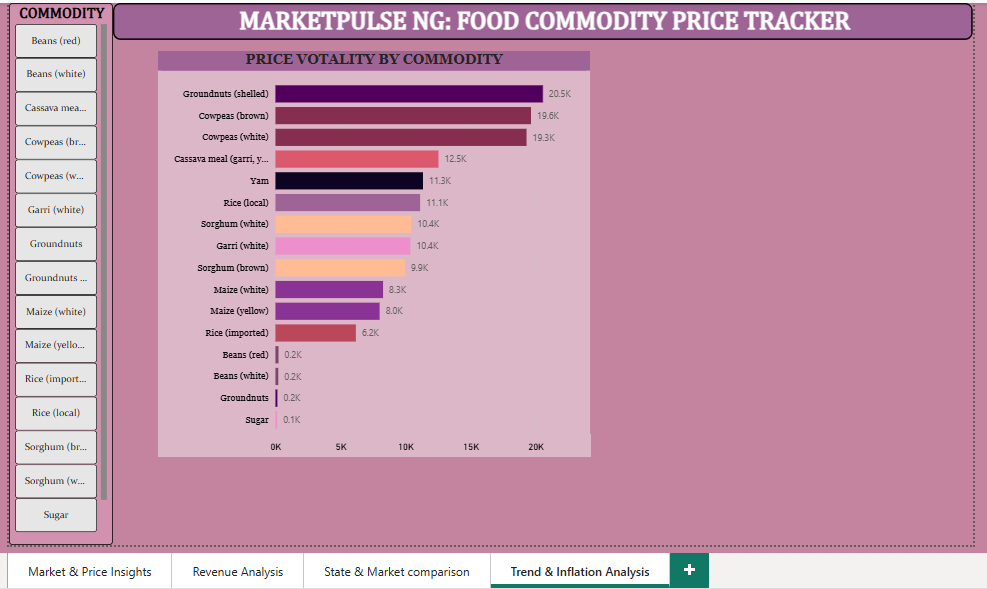

The dashboard page shown, as its layout file describes it:
{"tool":"powerbi","page":{"name":"Trend Analysis","canvas":[1280,720],"ordinal":3},"visuals":[{"type":"barChart","title":"PRICE VOTALITY BY COMMODITY","fields":{"Category":["Price.Commodity"],"Y":["Price.Price Volatility"]},"box":[197.9,63.8,573.9,539.3],"z":0},{"type":"advancedSlicerVisual","title":"COMMODITY","fields":{"Values":["Commodity.Commodity"]},"box":[0,0,138.2,720],"z":1000},{"type":"textbox","title":"MARKETPULSE NG:  FOOD COMMODITY PRICE TRACKER ","box":[137.6,0,1142.4,49.2],"z":2000}]}

Visuals, with their boxes on the page's 1280x720 design canvas (x1, y1, x2, y2). These are canvas units, not pixel positions in the 987x589 screenshot, which may show the page scaled, cropped or inside an application window:
"PRICE VOTALITY BY COMMODITY" barChart: rect(198, 64, 772, 603)
"COMMODITY" advancedSlicerVisual: rect(0, 0, 138, 720)
"MARKETPULSE NG:  FOOD COMMODITY PRICE TRACKER " textbox: rect(138, 0, 1280, 49)
